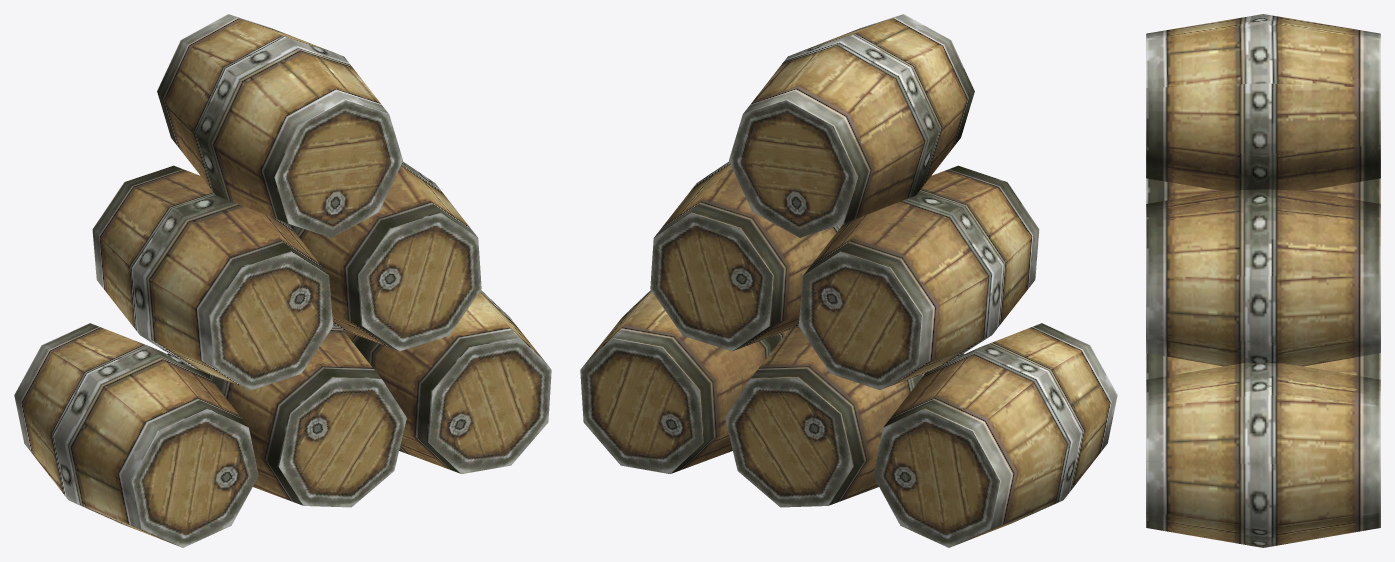
File: nml-bd108.glb
3 views of the same model, side by side, from view 1: azimuth 30°, elevation 25°; view 2: azimuth 150°, elevation 25°; view 3: azimuth 270°, elevation 25° (orthographic).
Visible parts, largest first — view 1: geom_node_0; view 2: geom_node_0; view 3: geom_node_0.
Boxes of the visible parts, <box> form: geom_node_0: <box>14,14,551,547</box>; geom_node_0: <box>580,14,1117,547</box>; geom_node_0: <box>1146,14,1380,547</box>.
Size of the model in its own units: 3.31 by 3.1 by 1.49.
1 material, 1 textured.
